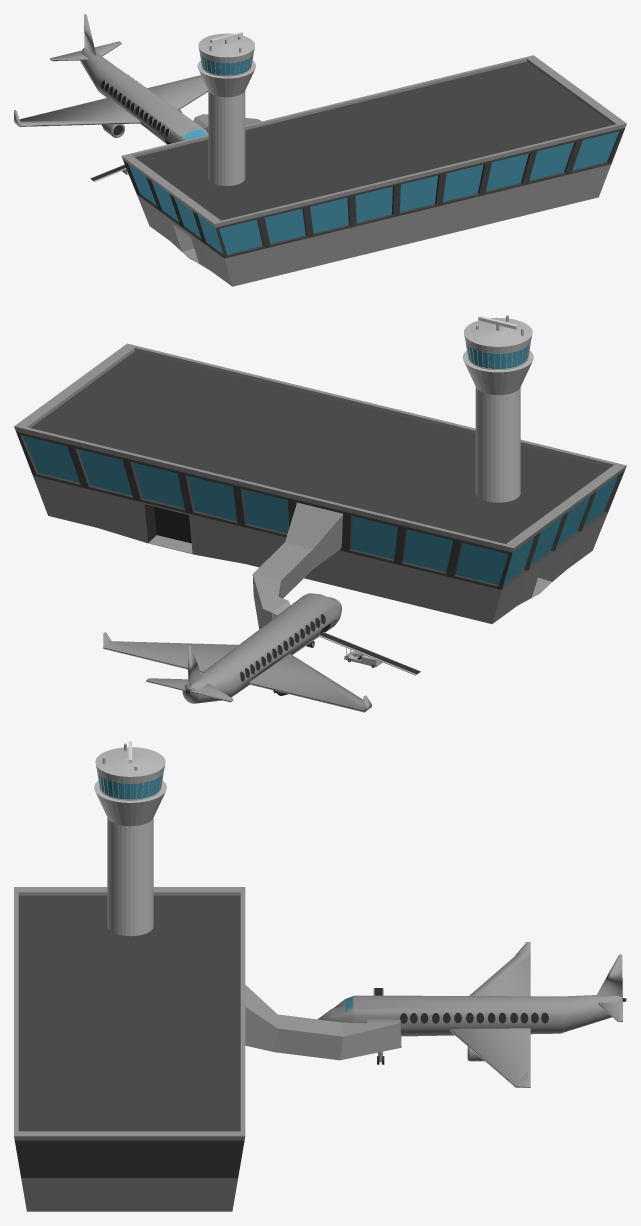
File: scene.ff4dff5e.glb
3 renders of one model, top to bottom at view 1: azimuth 30°, elevation 25°; view 2: azimuth 150°, elevation 25°; view 3: azimuth 270°, elevation 25°, orthographic. The views are drawn at different scales.
Parts seen in each view (by area): view 1: AirportTerminal, AirportTerminal.002, AirportControlTower; view 2: AirportTerminal, AirportTerminal.002, AirportControlTower, BaggageLoader; view 3: AirportTerminal, AirportTerminal.002, AirportControlTower.
Boxes of the visible parts, x1,y1,x2,y2 form: AirportTerminal: (121, 55, 626, 286); AirportTerminal.002: (14, 14, 208, 144); AirportControlTower: (197, 33, 255, 185); AirportTerminal: (14, 343, 626, 629); AirportTerminal.002: (103, 593, 371, 712); AirportControlTower: (462, 315, 533, 502); BaggageLoader: (319, 632, 420, 675); AirportTerminal: (14, 887, 401, 1211); AirportTerminal.002: (318, 942, 626, 1087); AirportControlTower: (94, 743, 166, 936).
Size of what is drawn, in the model's own units: 5.74 by 2.85 by 5.96.
